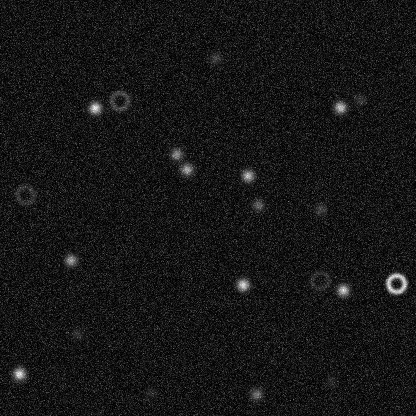Ring: (384, 271, 408, 295), (107, 88, 131, 112), (13, 182, 37, 206), (307, 268, 331, 292)
Spot: (207, 50, 223, 66), (11, 365, 27, 381), (248, 386, 264, 402), (234, 276, 250, 292), (168, 146, 184, 162), (335, 282, 351, 298), (86, 99, 102, 115), (68, 325, 84, 341), (352, 91, 368, 107), (312, 201, 328, 217), (62, 252, 78, 268), (332, 99, 348, 115), (250, 197, 266, 213), (323, 373, 339, 389), (178, 161, 194, 177), (239, 167, 255, 183), (142, 385, 158, 401)
